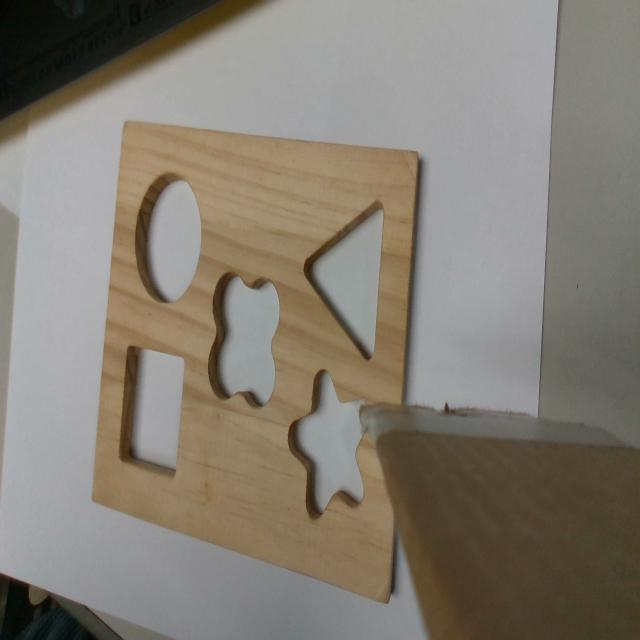circle: (136, 172, 202, 302)
flower: (207, 273, 281, 406)
square: (118, 346, 185, 478)
star: (285, 369, 365, 517)
triangle: (302, 197, 385, 361)
